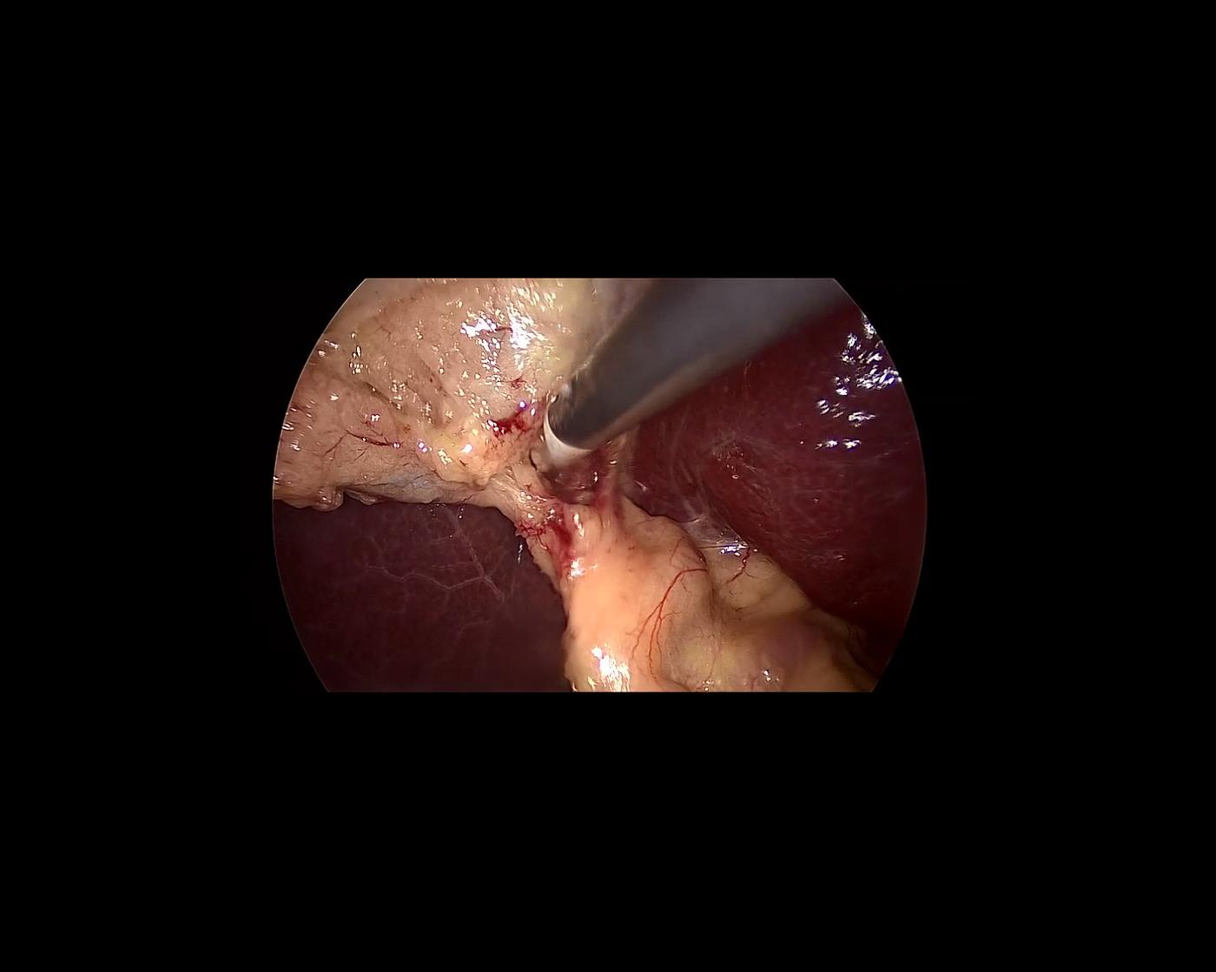Cautery: (488, 200, 843, 480)
Gallbladder: (271, 279, 652, 514)
Liver: (596, 291, 1016, 723), (274, 491, 570, 695)
